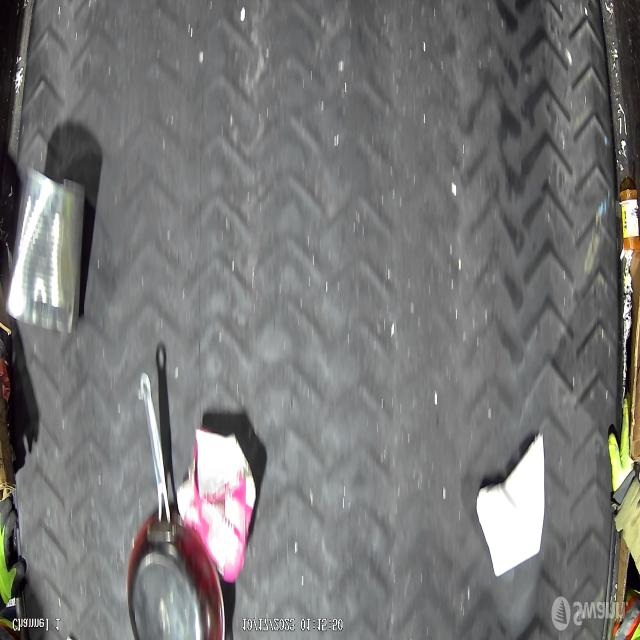can: (8, 166, 86, 333)
